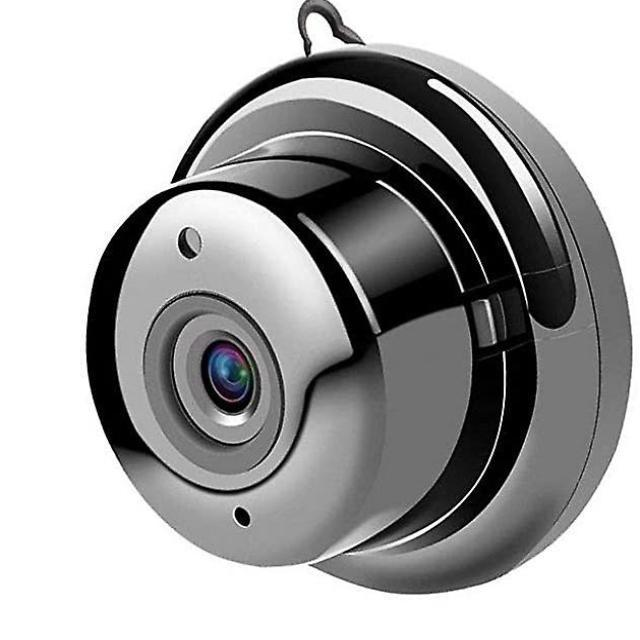hidden camera: (97, 190, 378, 561)
